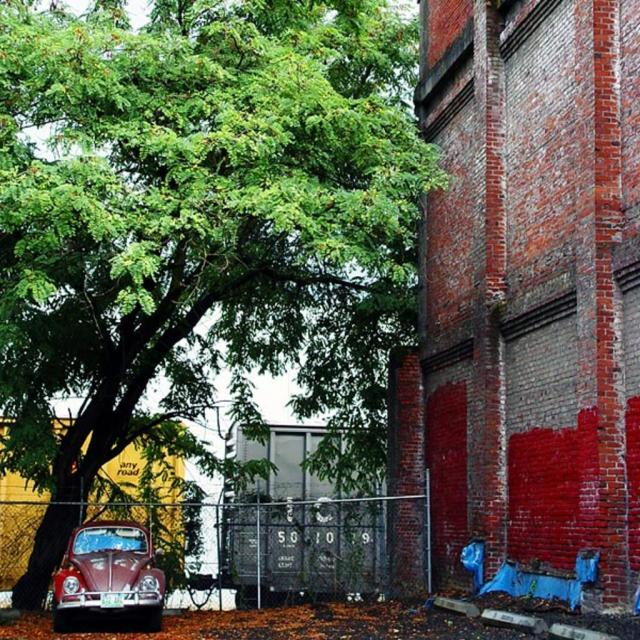car: (57, 538, 174, 613)
